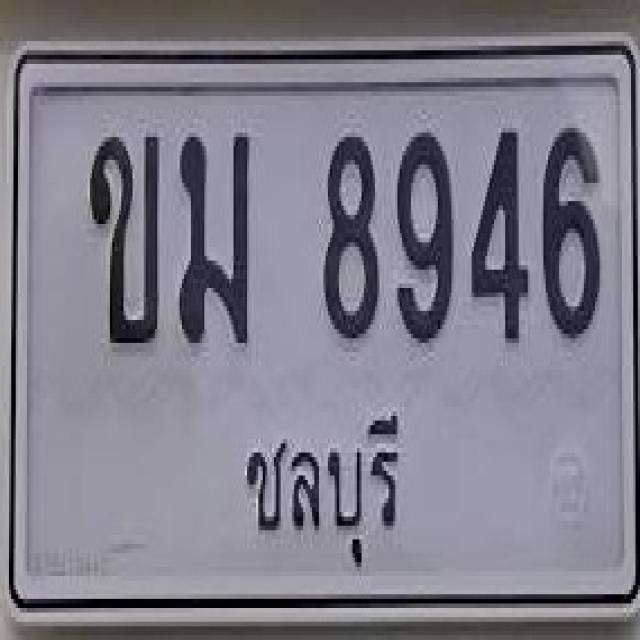license_plate: (6, 36, 640, 617)
